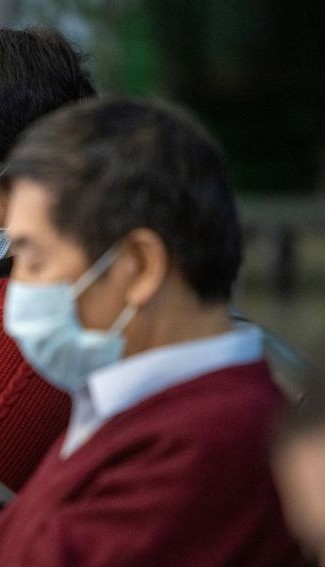with_mask: (10, 132, 201, 398)
